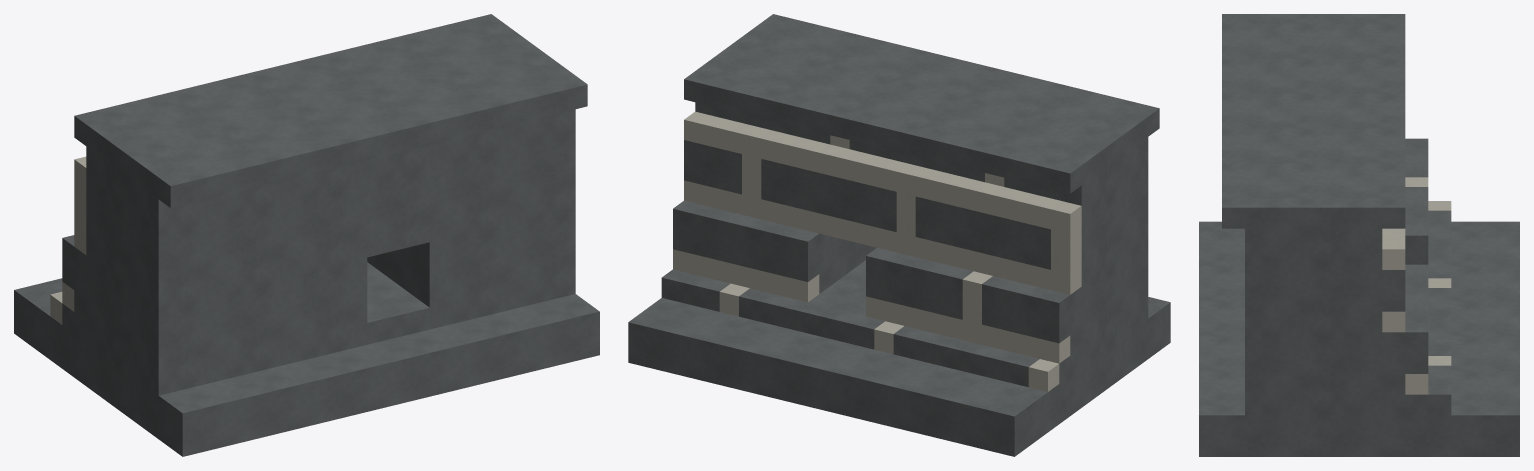
3 views of the same model, side by side, from view 1: azimuth 30°, elevation 25°; view 2: azimuth 150°, elevation 25°; view 3: azimuth 270°, elevation 25° (orthographic). The views are drawn at different scales.
Visible parts, largest first — view 1: 挡墙转角高差与端头族; view 2: 挡墙转角高差与端头族; view 3: 挡墙转角高差与端头族.
Part boxes in pixels (x1=…): 挡墙转角高差与端头族: x1=14, y1=14, x2=599, y2=456; 挡墙转角高差与端头族: x1=628, y1=14, x2=1170, y2=456; 挡墙转角高差与端头族: x1=1199, y1=14, x2=1519, y2=456.
Size of the model in its own units: 4 by 2.4 by 2.8.
2 materials, 2 textured.
